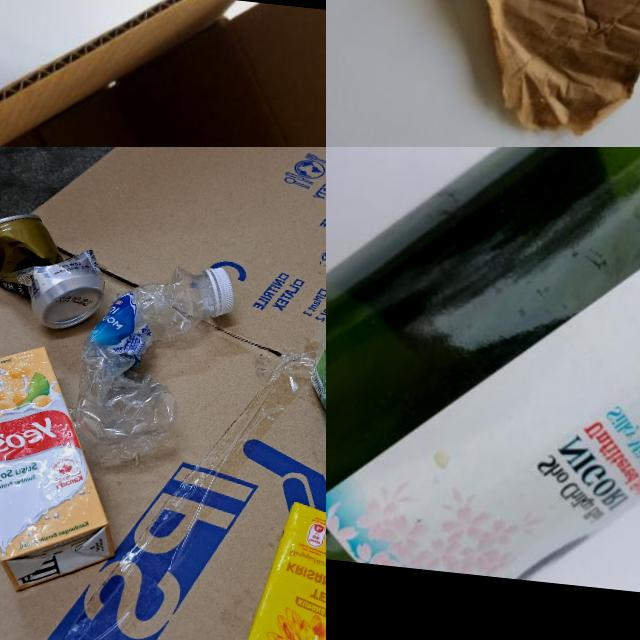caixinha: (0, 339, 133, 600), (224, 497, 326, 640)
garrafa de vidro: (326, 147, 640, 612)
garrafa plástica: (71, 250, 239, 476)
lata: (0, 209, 112, 333)
papelão: (0, 147, 326, 640), (0, 0, 326, 147), (461, 0, 640, 147)
tampa plástica: (201, 262, 242, 318)
